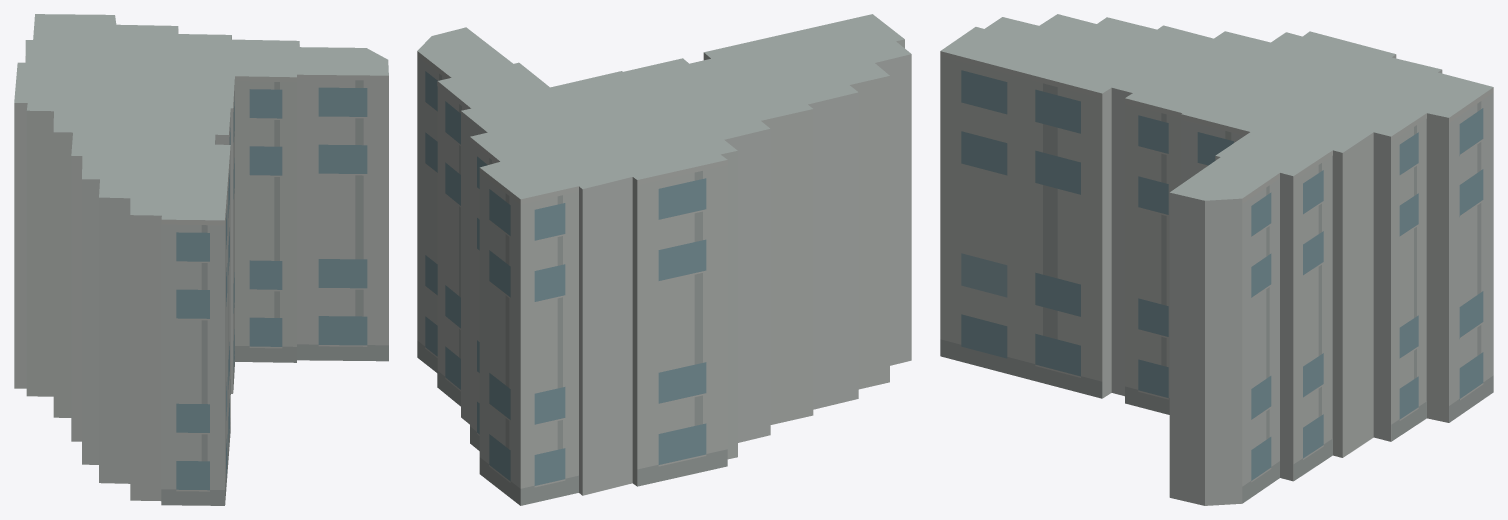
The model's file is survey-upis-32489459.glb.
3 renders of one model, left to right at view 1: azimuth 30°, elevation 25°; view 2: azimuth 150°, elevation 25°; view 3: azimuth 270°, elevation 25°, orthographic. The views are drawn at different scales.
Parts seen in each view (by area): view 1: survey-upis-32489459.tmp; view 2: survey-upis-32489459.tmp; view 3: survey-upis-32489459.tmp.
Boxes of the visible parts, bbox=[...] form: survey-upis-32489459.tmp: bbox=[14, 14, 388, 505]; survey-upis-32489459.tmp: bbox=[417, 14, 911, 505]; survey-upis-32489459.tmp: bbox=[940, 14, 1493, 505].
Bounding box in the file's own units: 18.25 × 13.9 × 22.85.
